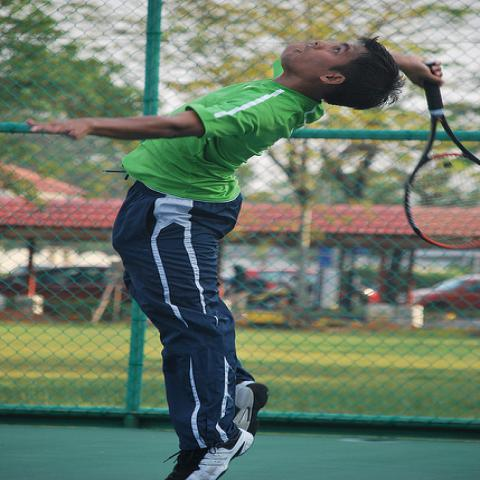car: (1, 266, 110, 311), (396, 272, 479, 315), (248, 267, 320, 310)
